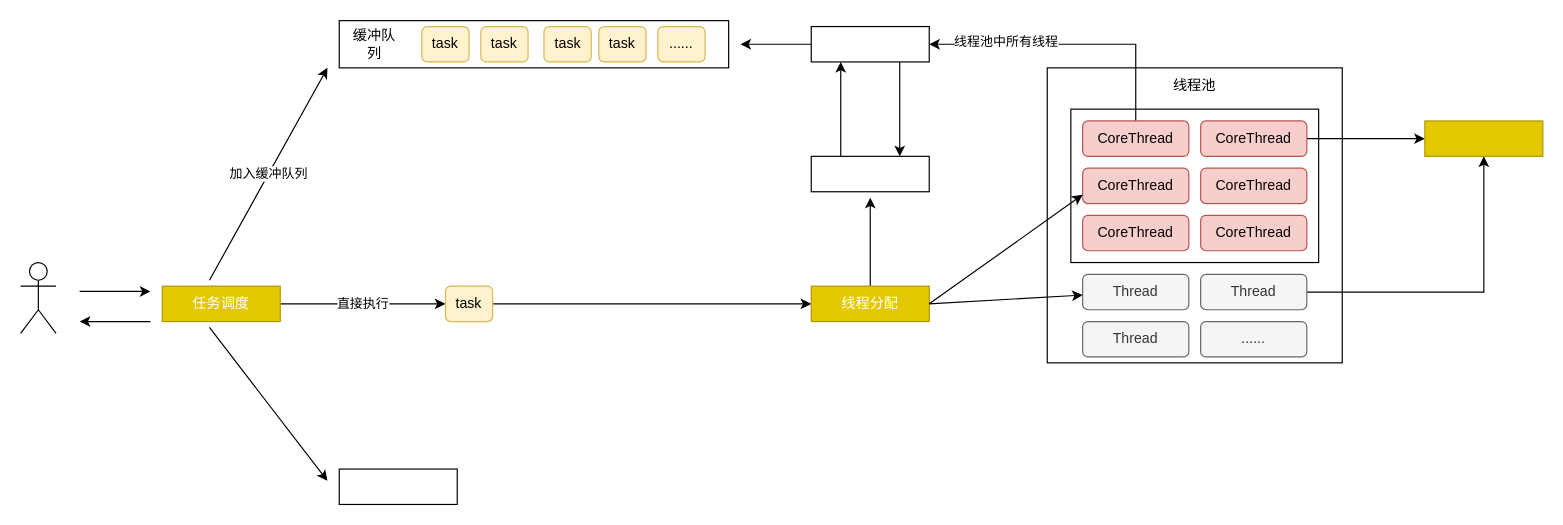
This 1563x525 diagram has some shape labels left out. Each missing label, with the centre of its shape:
"Actor" belongs at point (37, 297).
"任务获取" belongs at point (869, 43).
"使用拒绝策略" belongs at point (397, 486).
"线程回收" belongs at point (1483, 138).
"线程执行任务" belongs at point (869, 173).
